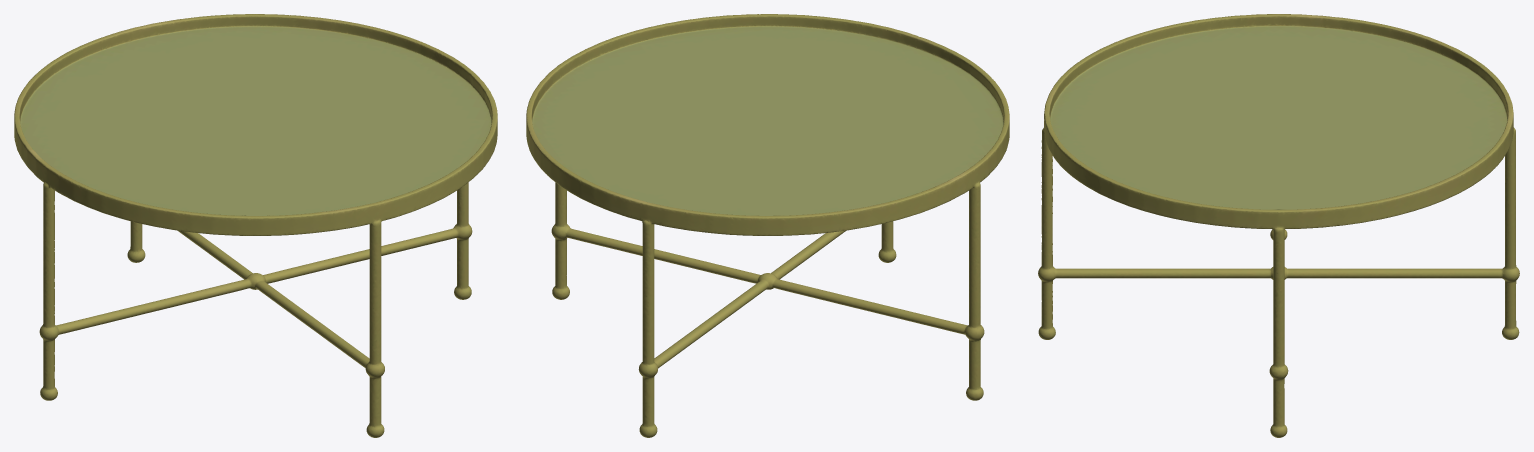
File: 27_圆形玻璃茶几.glb
3 views of the same model, side by side, from view 1: azimuth 30°, elevation 25°; view 2: azimuth 150°, elevation 25°; view 3: azimuth 270°, elevation 25° (orthographic). The views are drawn at different scales.
Parts seen in each view (by area): view 1: world; view 2: world; view 3: world.
Boxes of the visible parts, x1,y1,x2,y2 form: world: (14, 14, 497, 437); world: (526, 14, 1009, 437); world: (1038, 14, 1519, 437).
Size of the model in its own units: 1 by 0.5184 by 1.
Materials: 1 (1 with a texture image).
